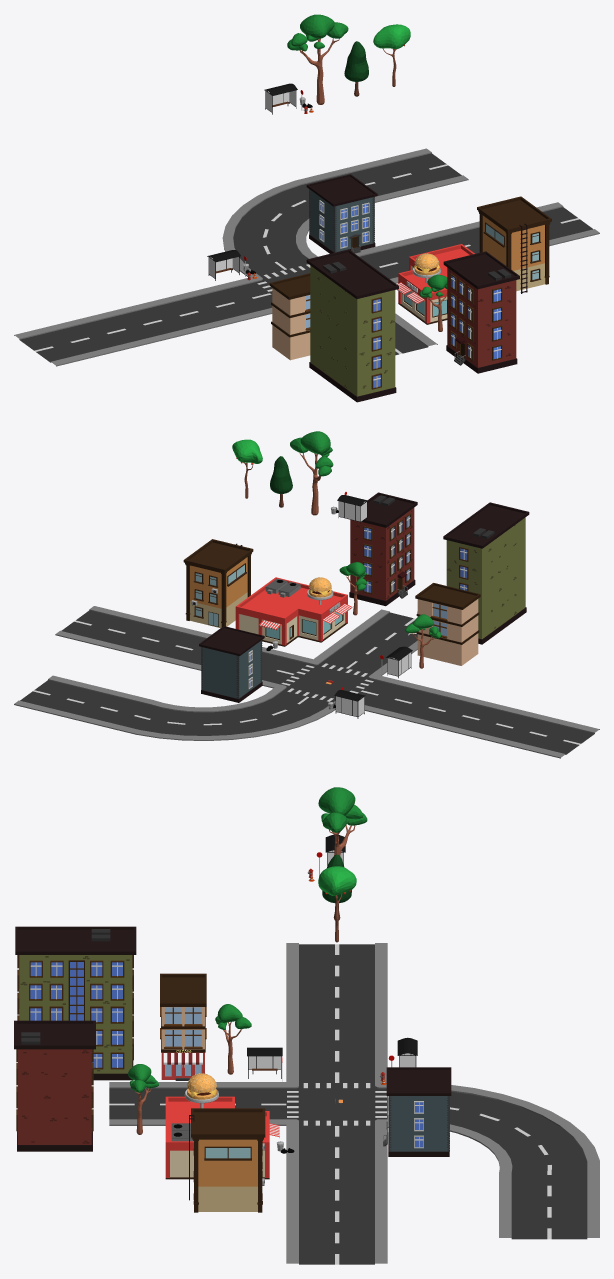
The model's file is LowPolyCityAssets.glb.
3 views of the same model, one above another, from view 1: azimuth 30°, elevation 25°; view 2: azimuth 150°, elevation 25°; view 3: azimuth 270°, elevation 25° (orthographic). The views are drawn at different scales.
Visible parts, largest first — view 1: Block2, Block1, Curve Road, Cube, Straight Road.005, Straight Road.002, Block1.001, Straight Road, Coffee, Straight Road.001, Intersection, Straight Road.006 (+5 smaller); view 2: Block2, Curve Road, Block1, Cube, Intersection, Coffee, Block1.001, Straight Road, Straight Road.006, Straight Road.005, Straight Road.002, Straight Road.003 (+9 smaller); view 3: Block2, Block1, Curve Road, Cube, Intersection, Straight Road.006, Straight Road.002, Straight Road.005, Straight Road.001, Straight Road, Block1.001, Coffee (+5 smaller).
Part boxes in pixels (left/top/right/bottom): Block2: left=306, top=249, right=398, bottom=402; Block1: left=443, top=251, right=519, bottom=373; Curve Road: left=222, top=175, right=323, bottom=269; Cube: left=477, top=196, right=551, bottom=293; Straight Road.005: left=14, top=308, right=164, bottom=366; Straight Road.002: left=123, top=282, right=272, bottom=339; Block1.001: left=306, top=174, right=377, bottom=253; Straight Road: left=318, top=148, right=468, bottom=202; Coffee: left=269, top=273, right=310, bottom=360; Straight Road.001: left=355, top=229, right=479, bottom=283; Intersection: left=232, top=252, right=317, bottom=311; Straight Road.006: left=449, top=202, right=599, bottom=251; Block2: left=443, top=502, right=529, bottom=644; Curve Road: left=115, top=695, right=332, bottom=740; Block1: left=349, top=492, right=417, bottom=606; Cube: left=183, top=539, right=253, bottom=627; Intersection: left=262, top=652, right=397, bottom=711; Coffee: left=408, top=583, right=480, bottom=665; Block1.001: left=199, top=626, right=264, bottom=702; Straight Road: left=14, top=675, right=153, bottom=729; Straight Road.006: left=55, top=606, right=194, bottom=659; Straight Road.005: left=460, top=704, right=599, bottom=758; Straight Road.002: left=364, top=680, right=498, bottom=733; Straight Road.003: left=323, top=609, right=417, bottom=667; Block2: left=15, top=926, right=136, bottom=1080; Block1: left=14, top=1020, right=95, bottom=1151; Curve Road: left=450, top=1085, right=599, bottom=1174; Cube: left=189, top=1108, right=265, bottom=1212; Intersection: left=261, top=1071, right=387, bottom=1136; Straight Road.006: left=286, top=1199, right=387, bottom=1264; Straight Road.002: left=286, top=1007, right=387, bottom=1072; Straight Road.005: left=286, top=943, right=387, bottom=1008; Straight Road.001: left=286, top=1135, right=387, bottom=1200; Straight Road: left=499, top=1173, right=599, bottom=1239; Block1.001: left=383, top=1067, right=451, bottom=1156; Coffee: left=160, top=973, right=206, bottom=1080.
Size of the model in its own units: 100 by 47.37 by 77.25.
